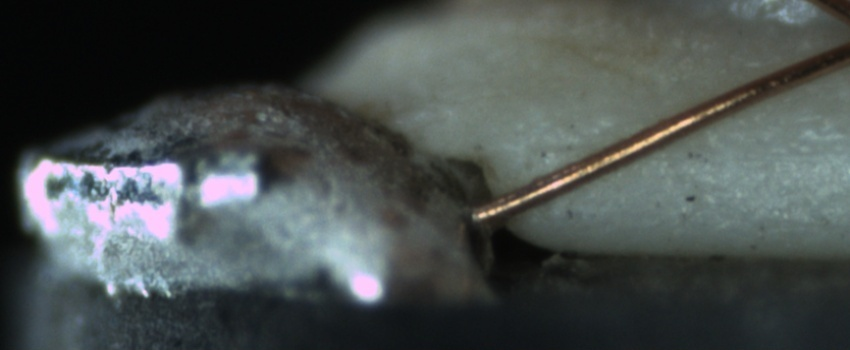DL: (534, 116, 848, 180)
